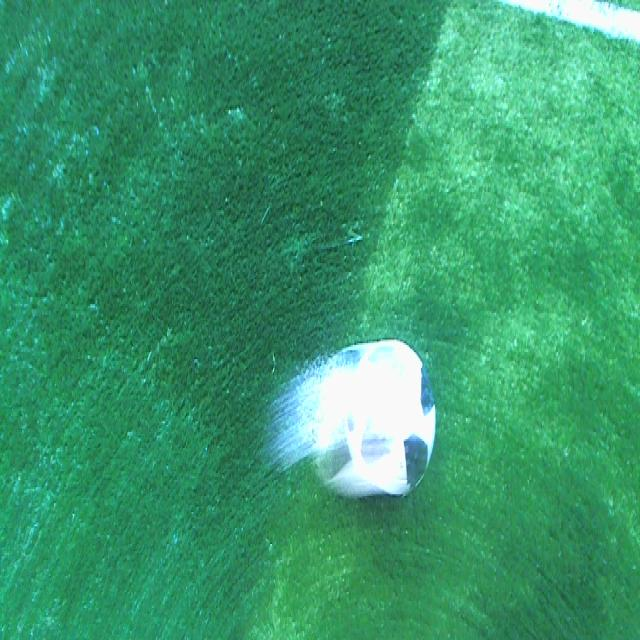ball: (296, 338, 440, 501)
